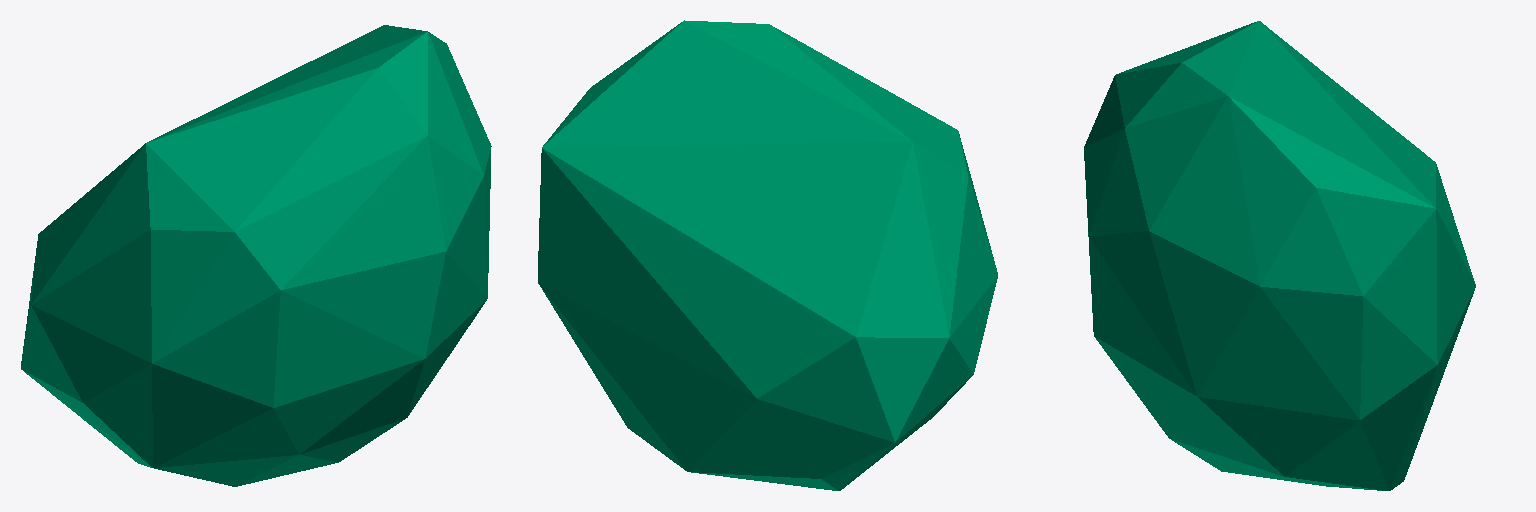
robot.urdf — SpidermanRFootSphere:
<?xml version="1.0"?>
<robot name="SpidermanRFootSphere">

  <link name="base_link"/>
  <joint name="base_link_J" type="fixed">
      <parent link="base_link"/>
      <child link="Pelvis"/>
      <origin rpy="0 0 0" xyz="0 0 0"/>
   </joint>

   <link name="Pelvis"/>
   
   <joint name="pelvis_rfoot_rom_joint" type="fixed">
      <parent link="Pelvis"/>
      <child link="pelvis_rfoot_rom"/>
      <origin rpy="0 0 0" xyz="0 0 0"/>
   </joint>

  <link name="pelvis_rfoot_rom">
      <visual>
         <origin xyz="0 0 0" rpy="0 0 0"/>
         <geometry>
            <mesh filename="package://hpp-rbprm-corba/meshes/spiderman/rfoot_rom.stl"/>
         </geometry>
      </visual>
	  <collision>
         <origin xyz="0 0 0" rpy="0 0 0"/>
         <geometry>
            <mesh filename="package://hpp-rbprm-corba/meshes/spiderman/rfoot_rom.stl"/>
         </geometry>
      </collision>
   </link>
   
   <link name="Thorax_rx"/>
   <link name="Thorax_ry"/>
   <link name="Thorax"/>
   <link name="Skull_rx"/>
   <link name="Skull_ry"/>
   <link name="Skull"/>

  <joint name="A_Thorax_rx" type="revolute"> <!-- A_ added for order while parsing with ROS -->
      <parent link="Pelvis"/>
      <child link="Thorax_rx"/>
      <origin rpy="0 0 0" xyz="0.0373 0.0006 0.0788"/>
      <axis xyz="1 0 0"/>
      <limit effort="0" lower="-1" upper="1" velocity="1.0"/>
   </joint>
   <joint name="Thorax_ry" type="revolute">
      <parent link="Thorax_rx"/>
      <child link="Thorax_ry"/>
      <origin rpy="0 0 0" xyz="0 0 0"/>
      <axis xyz="0 1 0"/>
      <limit effort="0" lower="-0.8" upper="0.8" velocity="1.0"/>
   </joint>
   <joint name="Thorax_rz" type="revolute">
      <parent link="Thorax_ry"/>
      <child link="Thorax"/>
      <origin rpy="0 0 0" xyz="0 0 0"/>
      <axis xyz="0 0 1"/>
      <limit effort="0" lower="-1.5" upper="1.5" velocity="1.0"/>
   </joint>
   <joint name="A_Skull_rx" type="revolute"> <!-- A_ added for order while parsing with ROS -->
      <parent link="Thorax"/>
      <child link="Skull_rx"/>
      <origin rpy="0 0 0" xyz="0.0711 -0.0005 0.6039"/>
      <axis xyz="1 0 0"/>
      <limit effort="0" lower="-0.3" upper="0.3" velocity="1.0"/>
   </joint>
   <joint name="Skull_ry" type="revolute">
      <parent link="Skull_rx"/>
      <child link="Skull_ry"/>
      <origin rpy="0 0 0" xyz="0 0 0"/>
      <axis xyz="0 1 0"/>
      <limit effort="0" lower="-1.1" upper="0.6" velocity="1.0"/>
   </joint>
   <joint name="Skull_rz" type="revolute">
      <parent link="Skull_ry"/>
      <child link="Skull"/>
      <origin rpy="0 0 0" xyz="0 0 0"/>
      <axis xyz="0 0 1"/>
      <limit effort="0" lower="-1.4" upper="1." velocity="1.0"/>
   </joint>
</robot>

--- Facts derived from the render (not from the file) ---
Views: 3 orthographic renders of the robot side by side, from view 1: azimuth 30°, elevation 25°; view 2: azimuth 150°, elevation 25°; view 3: azimuth 270°, elevation 25°.
Model SpidermanRFootSphere with 9 links and 8 joints (6 revolute, 2 fixed), rooted at base_link, posed all joints at 0.
Visible links, largest first — view 1: pelvis_rfoot_rom; view 2: pelvis_rfoot_rom; view 3: pelvis_rfoot_rom.
Link boxes in pixels (bbox=[...]): pelvis_rfoot_rom: bbox=[21, 25, 491, 486]; pelvis_rfoot_rom: bbox=[538, 20, 997, 490]; pelvis_rfoot_rom: bbox=[1084, 21, 1475, 490].
Bounding box of the posed robot: 1.82 × 1.38 × 1.74 m (x, y, z).
Meshes: 1 distinct files referenced, 1 mesh visuals loaded (1 binary STL).
